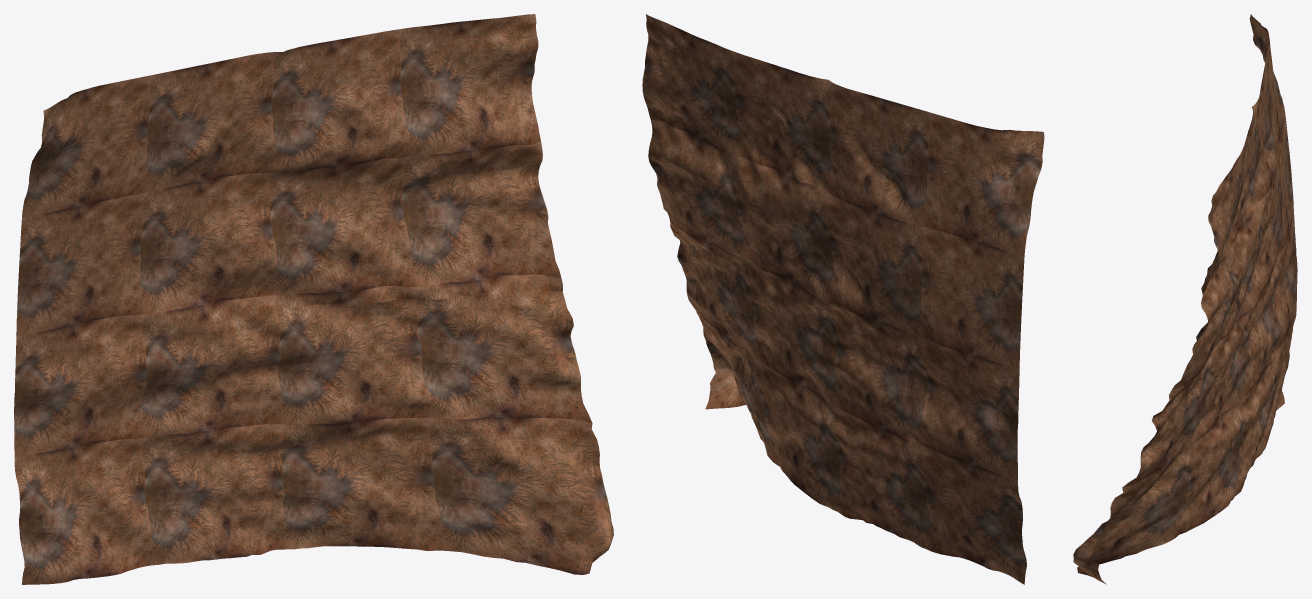
File: martian_surface.obj
3 renders of one model, left to right at view 1: azimuth 30°, elevation 25°; view 2: azimuth 150°, elevation 25°; view 3: azimuth 270°, elevation 25°, orthographic. The views are drawn at different scales.
Size of the model in its own units: 29.69 by 29.69 by 15.49.
Materials: 1 (1 with a texture image).
